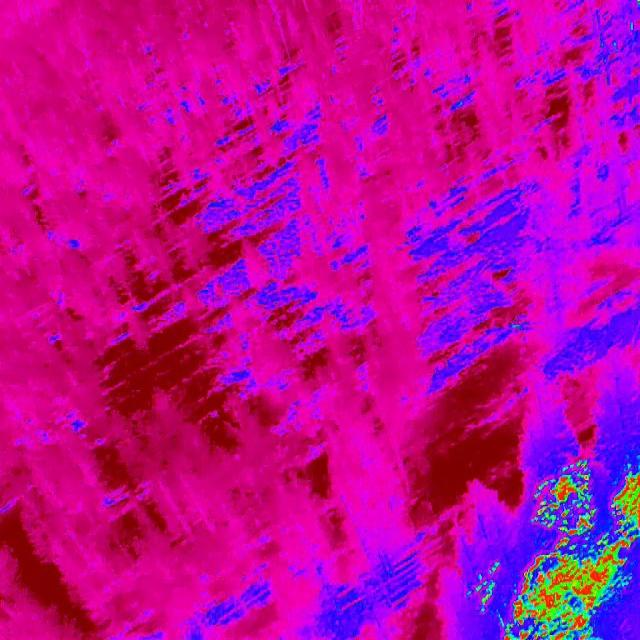fire: (501, 457, 640, 640), (464, 558, 500, 612)
